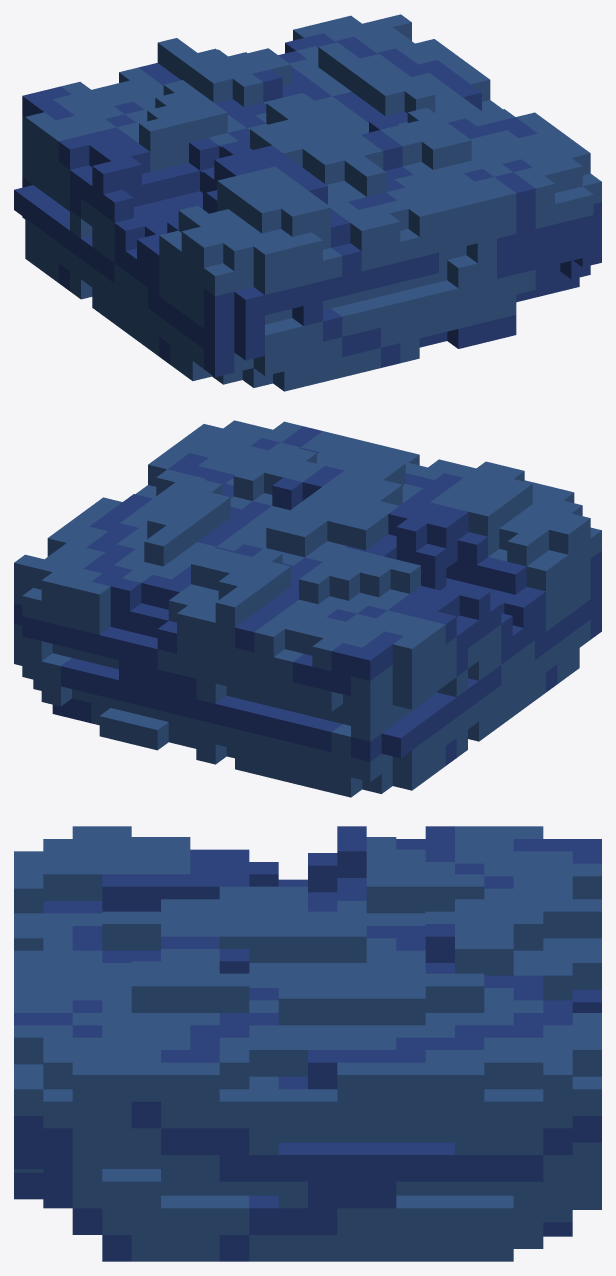
The model's file is stone.glb.
3 views of the same model, one above another, from view 1: azimuth 30°, elevation 25°; view 2: azimuth 150°, elevation 25°; view 3: azimuth 270°, elevation 25° (orthographic). The views are drawn at different scales.
Parts seen in each view (by area): view 1: stone.vox; view 2: stone.vox; view 3: stone.vox.
Part boxes in pixels (x1,y1,x2,y2): stone.vox: (14,14,601,391); stone.vox: (14,420,601,797); stone.vox: (14,826,601,1261).
Size of the model in its own units: 2 by 0.8 by 2.
Materials: 1 (1 with a texture image).
